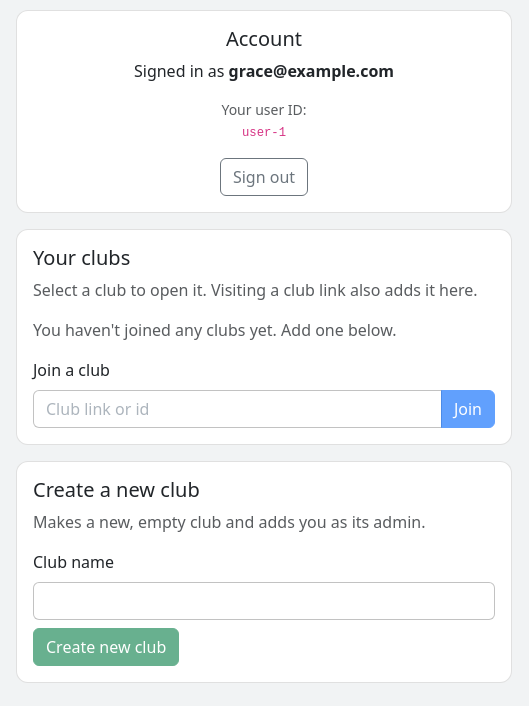
it: AuthPage › shows a validation error when the entered club name cannot produce a usable id
This screenshot has width=529, height=706.
Check: the text "Signed in as grace@example.com" is shown, box 134,60 -> 394,82
Type "!!!" into the field labelled "Club name".
click(264, 601); type("!!!")  # box 33,582 -> 495,620
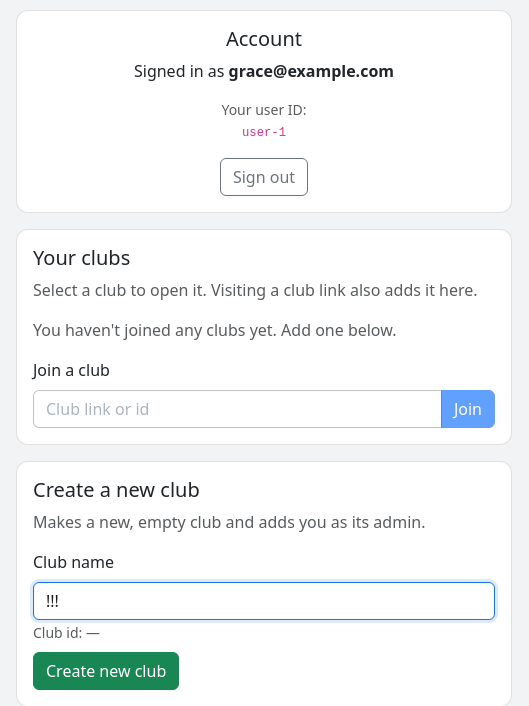
Click the button "Create new club".
click(106, 671)  # box 33,652 -> 179,690
(page scrolled)
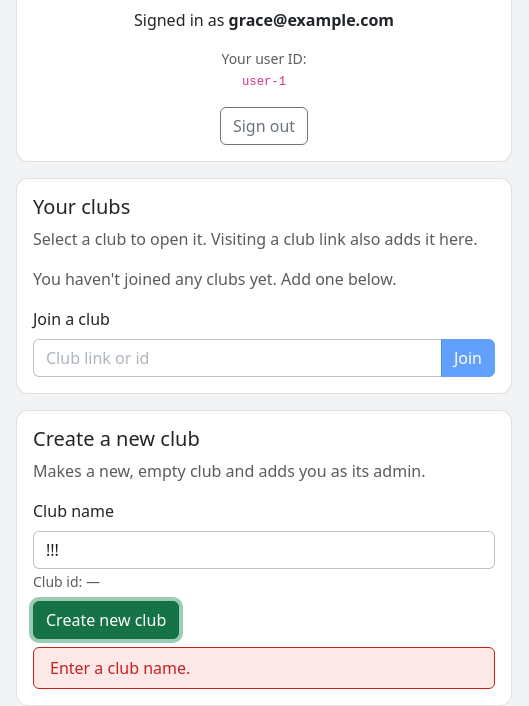
Check: the text "Enter a club name." is shown, box 33,647 -> 495,689
